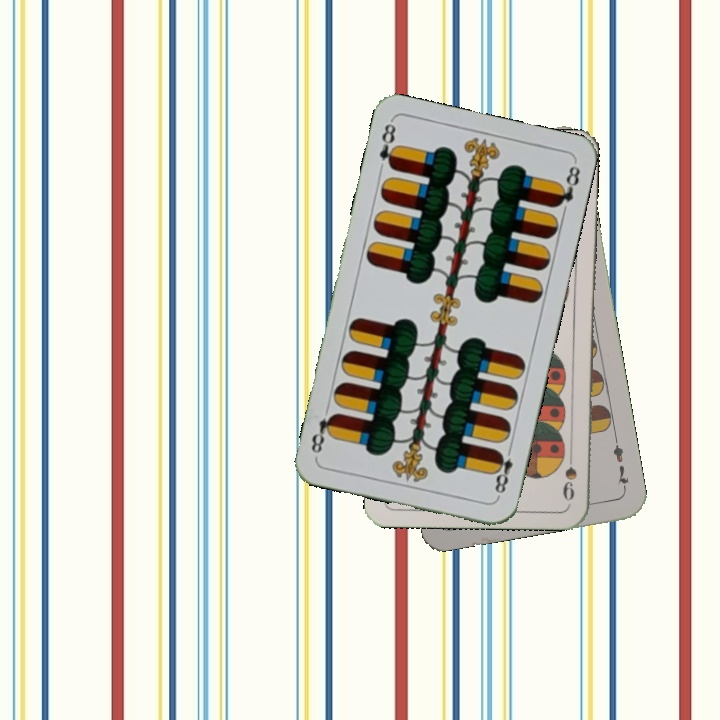E7: (608, 435, 632, 493)
E8: (489, 442, 516, 500), (375, 118, 401, 172)
S9: (558, 445, 580, 504)
